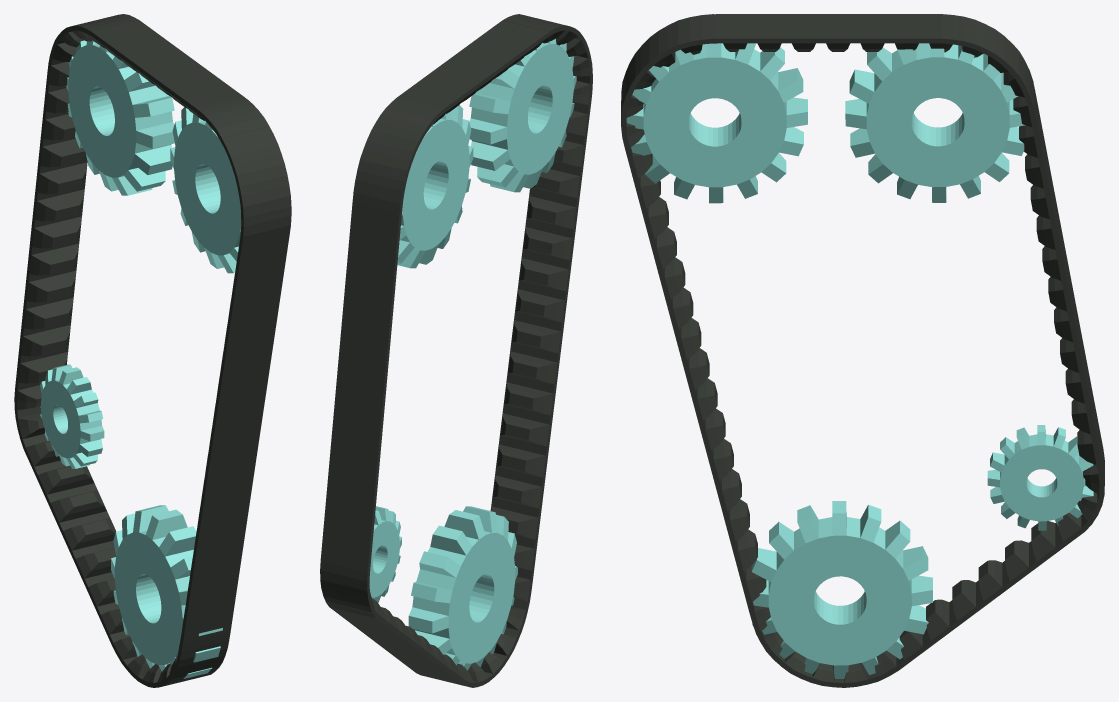
File: timing_belt.glb
The picture shows the model from 3 angles, left to right: view 1: azimuth 30°, elevation 25°; view 2: azimuth 150°, elevation 25°; view 3: azimuth 270°, elevation 25°; orthographic projection. The views are drawn at different scales.
Visible parts, largest first — view 1: Cube, Cylinder.002, Cylinder.005, Cylinder.001, Cylinder.006; view 2: Cube, Cylinder.005, Cylinder.001, Cylinder.002, Cylinder.006; view 3: Cube, Cylinder.005, Cylinder.002, Cylinder.001, Cylinder.006.
Boxes of the visible parts, bbox=[...] form: Cube: bbox=[14, 14, 291, 687]; Cylinder.002: bbox=[66, 40, 174, 195]; Cylinder.005: bbox=[111, 505, 222, 678]; Cylinder.001: bbox=[170, 107, 241, 273]; Cylinder.006: bbox=[40, 364, 104, 468]; Cube: bbox=[320, 14, 592, 687]; Cylinder.005: bbox=[408, 506, 517, 670]; Cylinder.001: bbox=[469, 39, 576, 192]; Cylinder.002: bbox=[397, 105, 473, 268]; Cylinder.006: bbox=[369, 506, 401, 602]; Cube: bbox=[621, 14, 1104, 687]; Cylinder.005: bbox=[751, 501, 932, 678]; Cylinder.002: bbox=[845, 43, 1024, 202]; Cylinder.001: bbox=[626, 43, 807, 203]; Cylinder.006: bbox=[987, 425, 1093, 530].
Bounding box in the file's own units: 0.8103 × 9.97 × 6.73.
